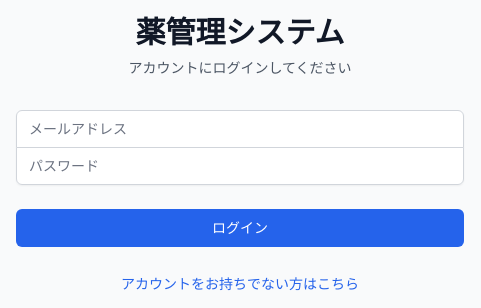
LoginForm › フォーム送信 › ログイン中はローディング状態になる
Note: フォームに入力 
Type "test@example.com" into the field with placeholder "メールアドレス" at (240, 128), box [16,110,464,148]
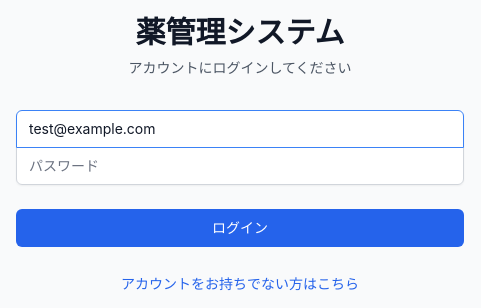
Type "password123" into the password field with placeholder "パスワード" at (240, 166), box [16,146,464,184]
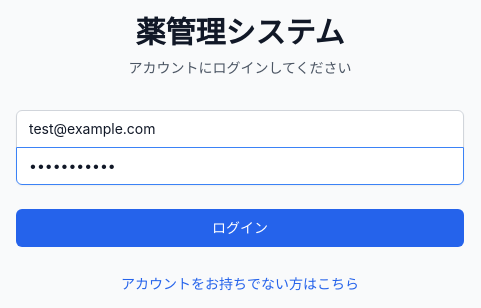
Note: ログインボタンをクリック
Click the button "ログイン" at (240, 228), box [16,208,464,246]
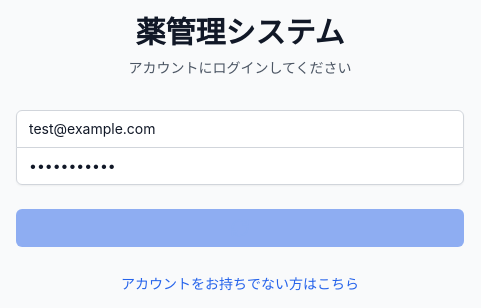
Check: the button named "ログイン" is disabled, box [16,208,464,246]
